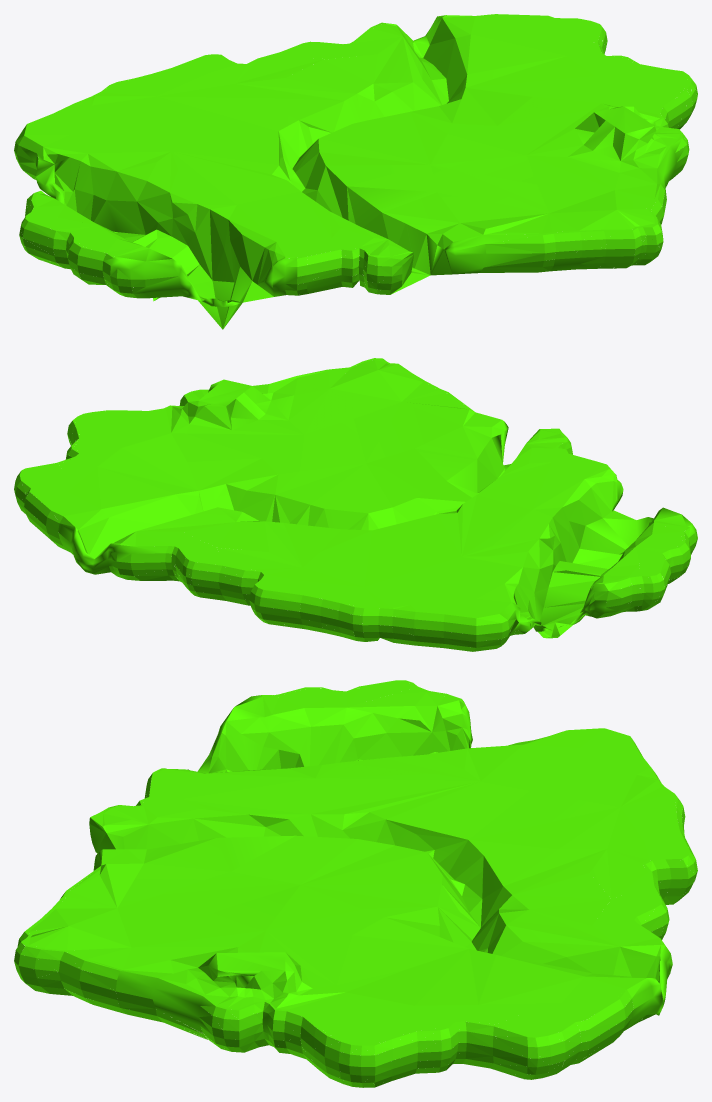
Rendered from Map-v0.2.3-transformed.glb.
3 renders of one model, top to bottom at view 1: azimuth 30°, elevation 25°; view 2: azimuth 150°, elevation 25°; view 3: azimuth 270°, elevation 25°, orthographic. The views are drawn at different scales.
Parts seen in each view (by area): view 1: PipoIsland; view 2: PipoIsland; view 3: PipoIsland.
Boxes of the visible parts, x1,y1,x2,y2 form: PipoIsland: [14, 14, 697, 329]; PipoIsland: [14, 358, 697, 651]; PipoIsland: [14, 680, 697, 1087].
Size of the model in its own units: 527 by 69.73 by 410.
